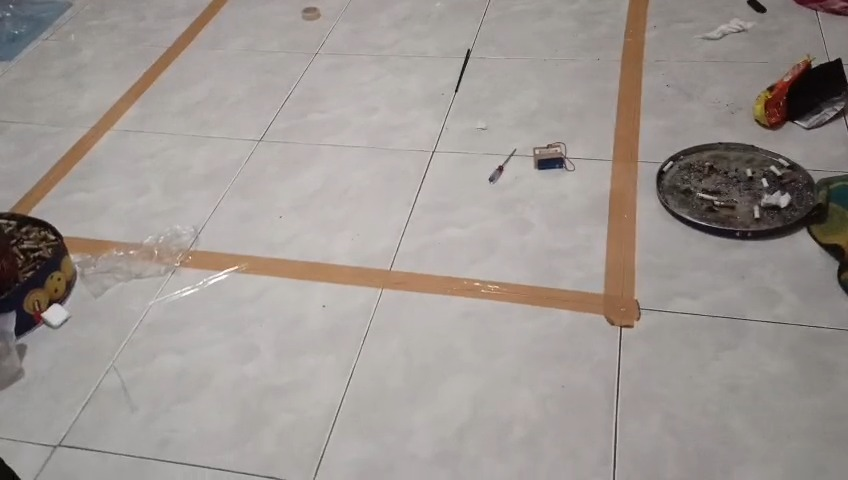floor marking: (182, 0, 647, 327), (13, 0, 227, 212), (66, 237, 131, 253)
